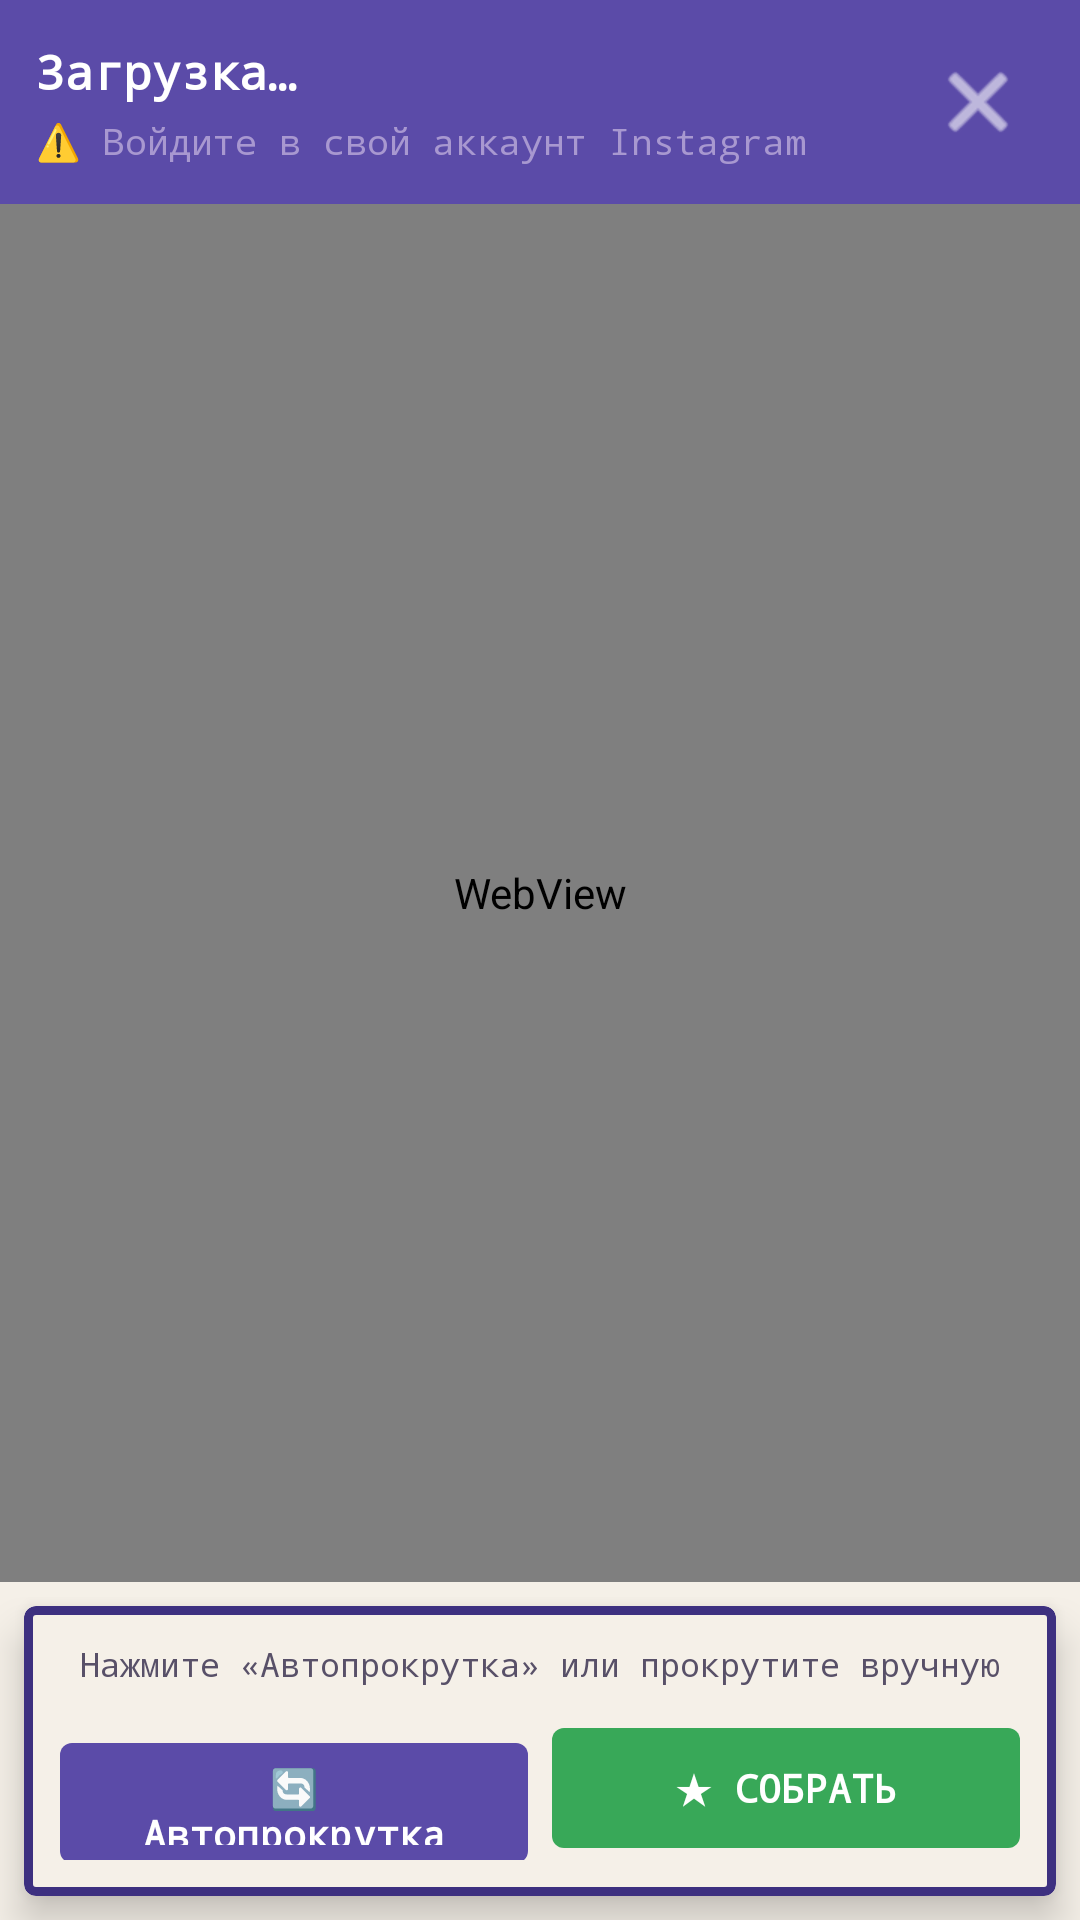

Icons on this 1080*1920 Android screen, each with the point to tap as (x,y):
ОТМЕНА: (978,102)
